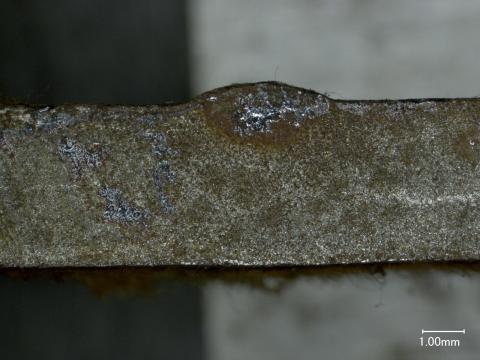test: (186, 82, 332, 103)
